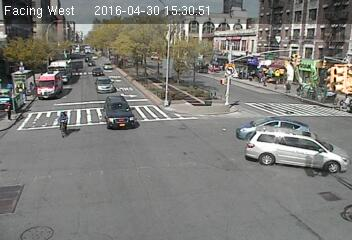neg: (187, 134, 214, 171), (275, 159, 302, 194), (217, 190, 243, 225), (325, 62, 351, 96), (187, 67, 212, 101), (35, 178, 60, 212), (131, 196, 156, 230), (51, 107, 75, 139), (143, 134, 167, 166), (13, 82, 36, 113), (93, 176, 114, 204), (176, 18, 197, 46), (239, 22, 259, 49), (317, 142, 337, 168), (301, 35, 320, 61), (239, 127, 258, 152), (152, 57, 170, 81), (218, 70, 236, 94), (57, 54, 75, 78), (101, 40, 118, 62), (110, 98, 126, 120), (273, 89, 283, 102)
